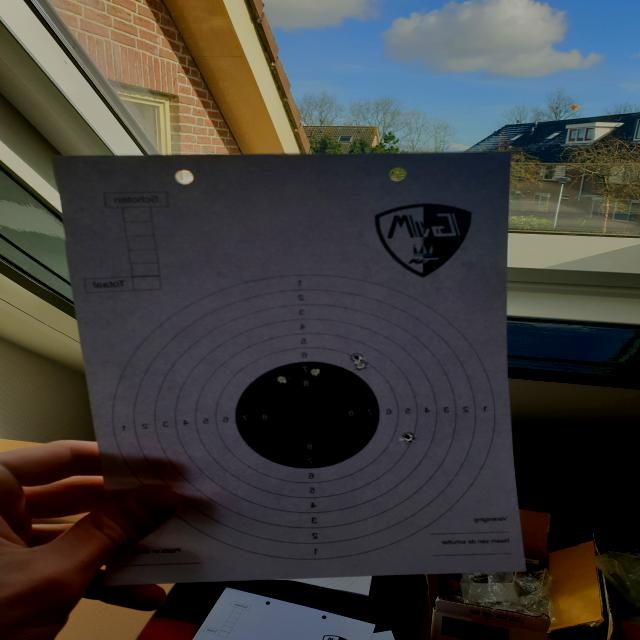5: (400, 432, 418, 444)
6: (351, 352, 363, 362), (355, 362, 366, 370)
8: (272, 375, 289, 386), (309, 367, 322, 378)
Target: (110, 271, 498, 563)
black_contour: (235, 362, 380, 468)
